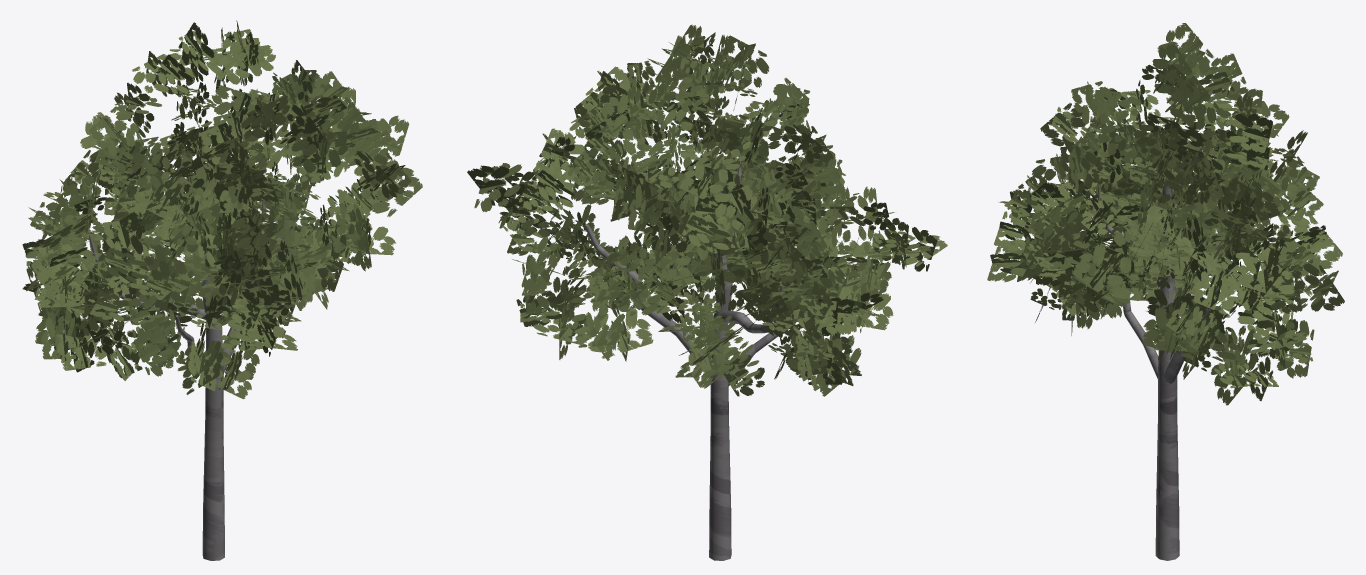
Rendered from tree_v2.gltf.
3 renders of one model, left to right at view 1: azimuth 30°, elevation 25°; view 2: azimuth 150°, elevation 25°; view 3: azimuth 270°, elevation 25°, orthographic.
Visible parts, largest first — view 1: leaf_mesh, trunk_mesh; view 2: leaf_mesh, trunk_mesh; view 3: leaf_mesh, trunk_mesh.
Part boxes in pixels (box(x1,y1,x2,y2)): leaf_mesh: box(22, 20, 422, 399); trunk_mesh: box(89, 195, 300, 560); leaf_mesh: box(467, 24, 947, 396); trunk_mesh: box(584, 152, 782, 560); leaf_mesh: box(987, 23, 1344, 405); trunk_mesh: box(1098, 186, 1228, 560).
Size of the model in its own units: 7.2 by 9.58 by 5.94.
2 materials, 2 textured.
